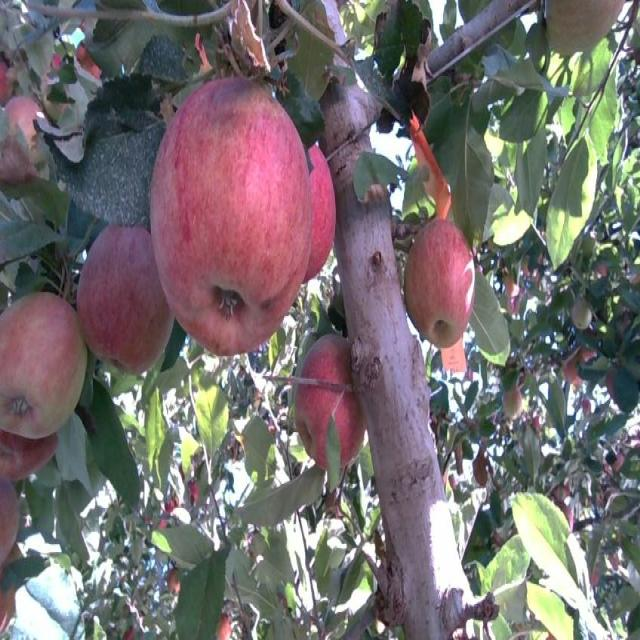Rotten Apple: (148, 70, 313, 363), (76, 200, 166, 372), (0, 295, 85, 435), (294, 337, 362, 467), (406, 227, 473, 345), (303, 140, 334, 280), (0, 423, 51, 475)
